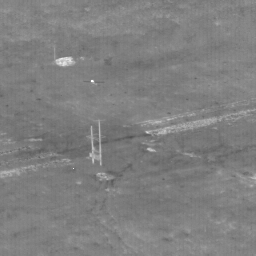aircraft: (92, 80, 94, 82)
